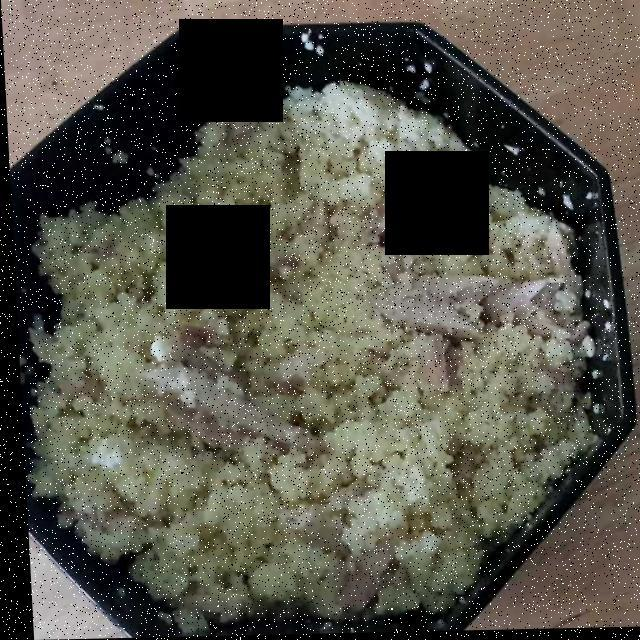couscous: (35, 85, 581, 618)
fish: (114, 186, 579, 598)
